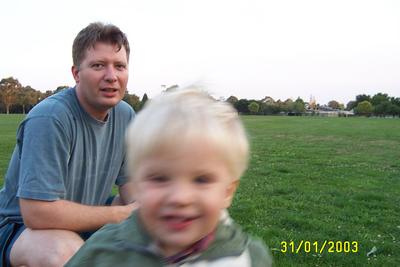person: (1, 23, 140, 267)
